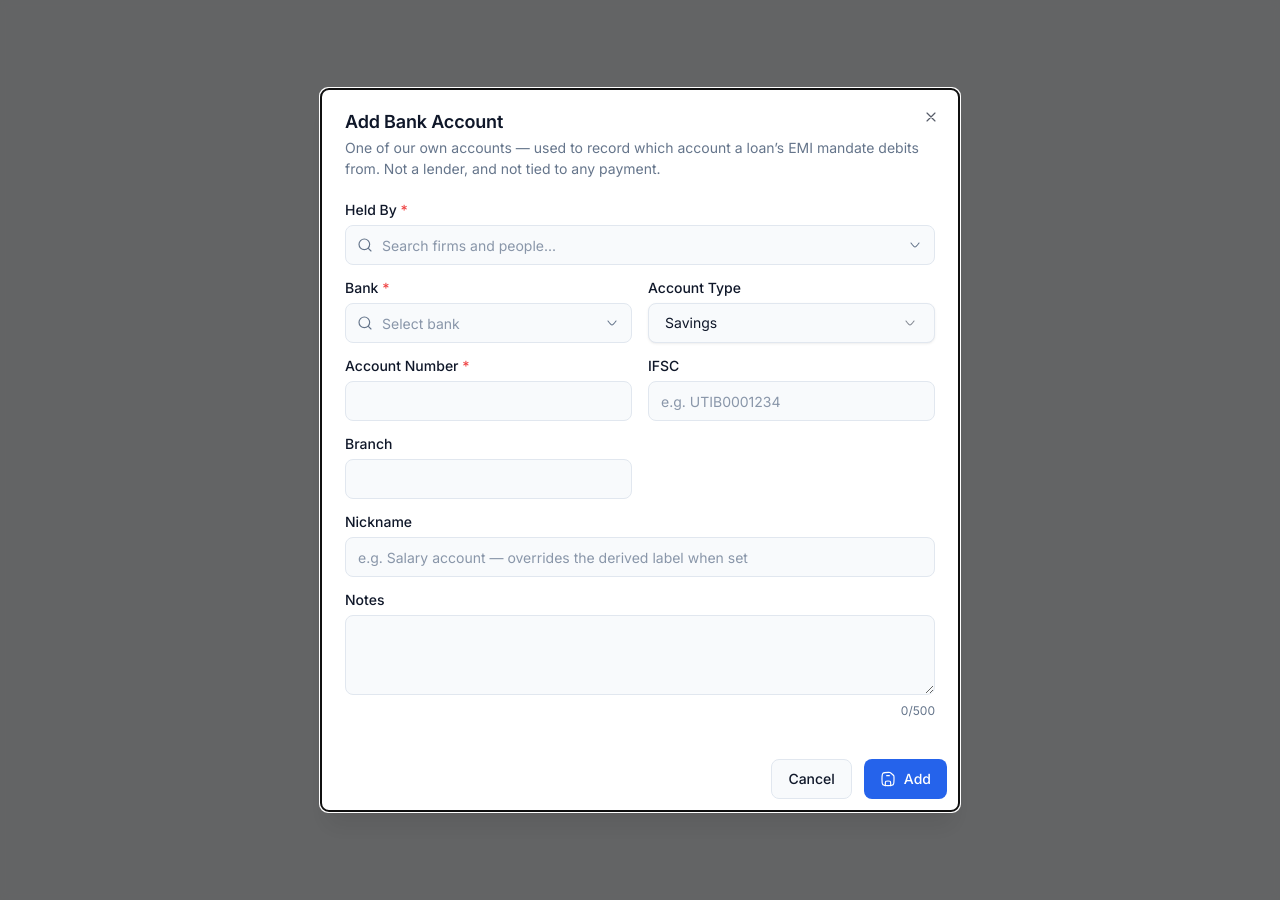
Test: BankAccountModal › shows validation errors and does not submit when required fields are missing
This screenshot has width=1280, height=900.
Check: the dropdown labelled "Held By *" is enabled, box [345, 225, 935, 265]
Click the button "Add".
click(905, 779)  # box [864, 759, 947, 799]
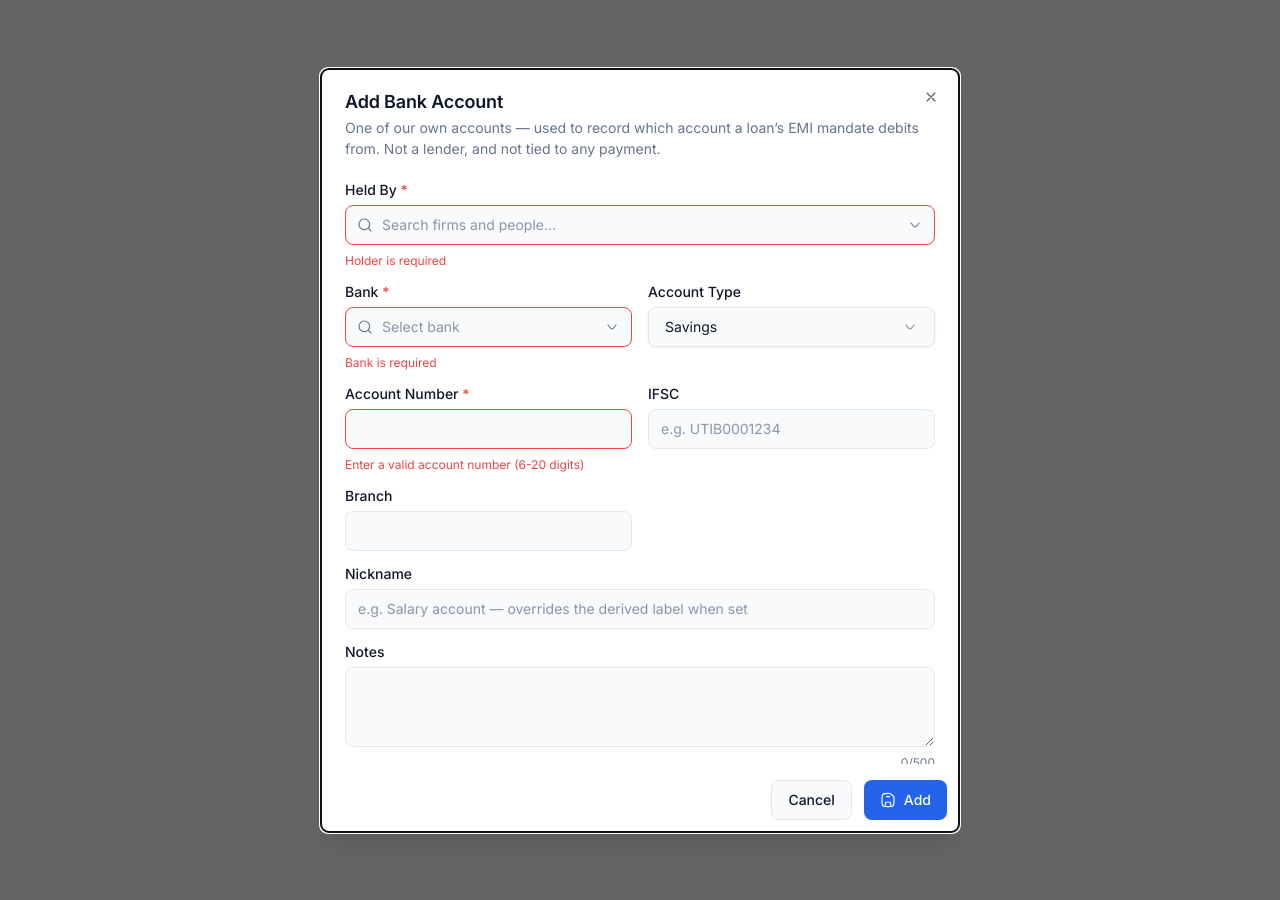
Check: the text "Holder is required" is shown, box [345, 252, 446, 268]
Check: the text "Bank is required" is shown, box [345, 354, 437, 370]
Check: the text "Enter a valid account number (6-20 digits)" is shown, box [345, 456, 584, 472]
